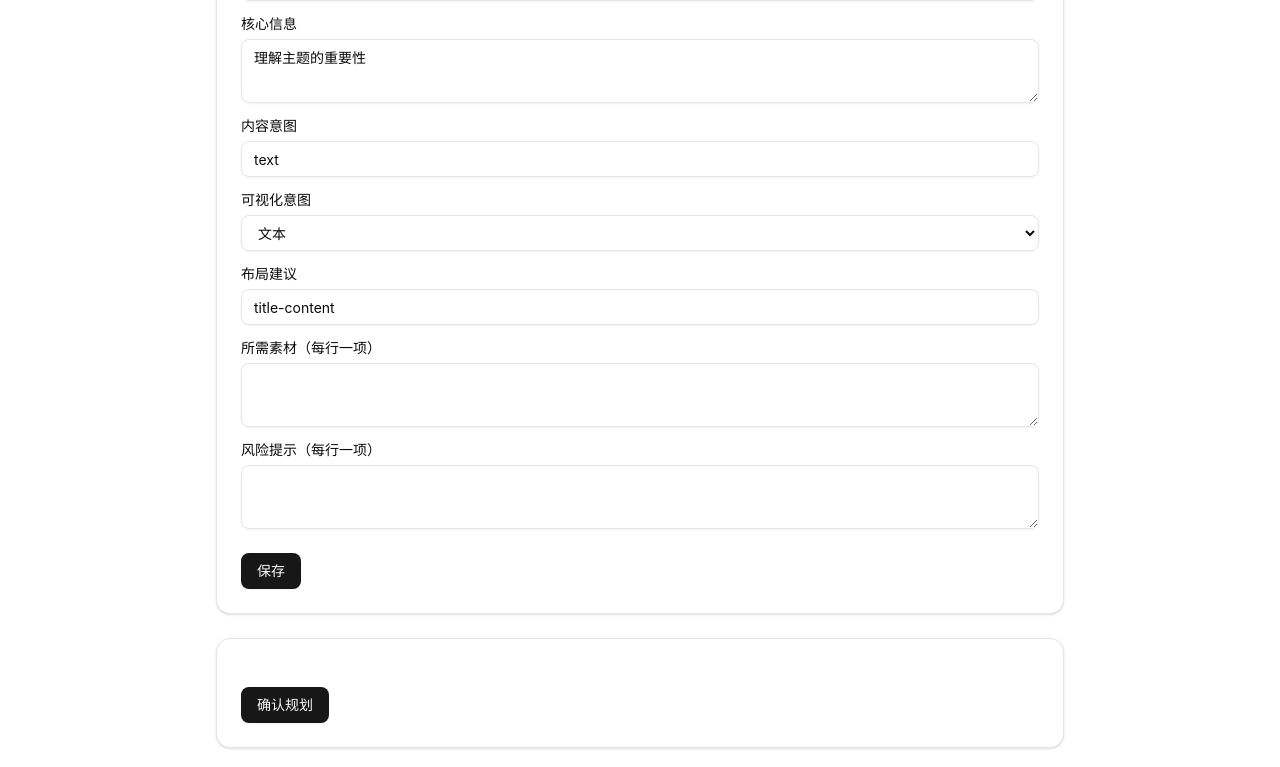
Test: slide-plans page — confirm then materialize › post-confirm edit+save hides the materialize CTA (derived, not one-shot)
The width and height of the screenshot is (1280, 767).
(page scrolled)
Click the button "确认规划" at (285, 705), box [241,687,329,723]
(page scrolled)
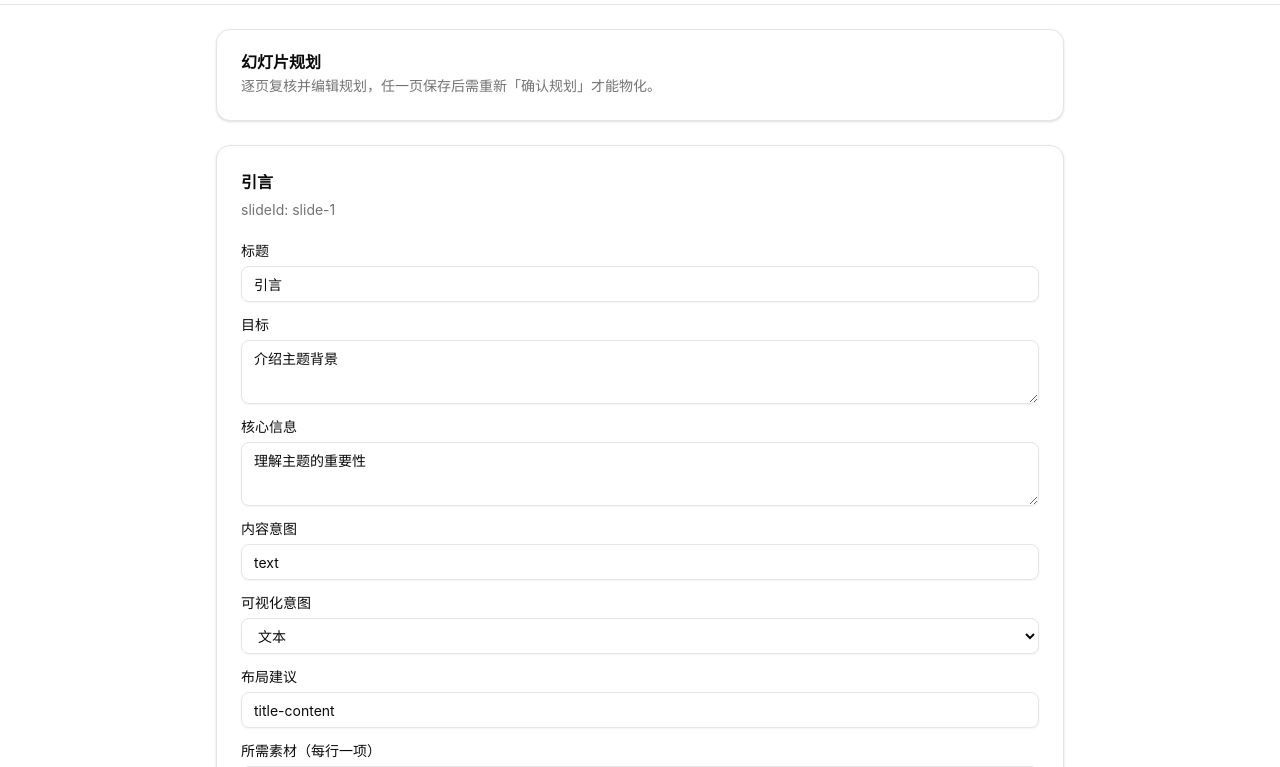
Replace the text in the text box labelled "目标" with "修改后的目标" at (640, 372), box [241,340,1039,404]
(page scrolled)
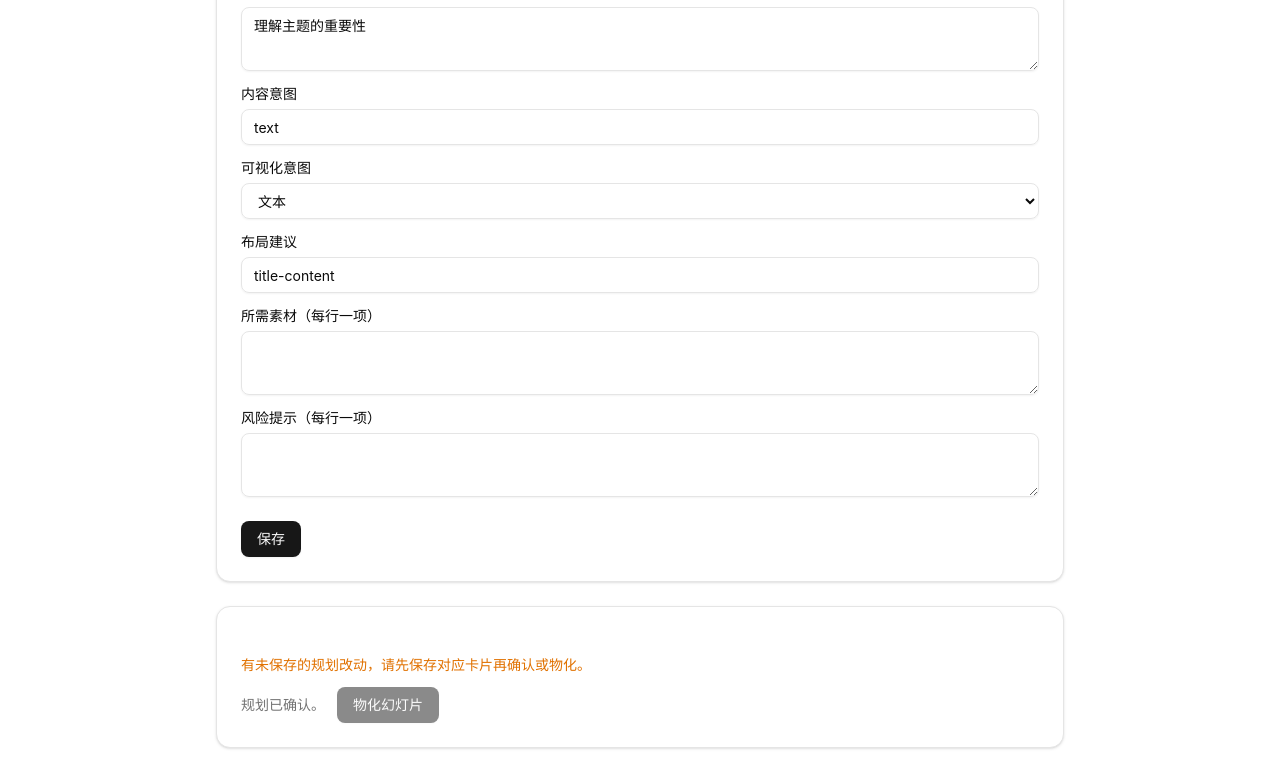
Click the button "保存" at (271, 539), box [241,521,301,557]
(page scrolled)
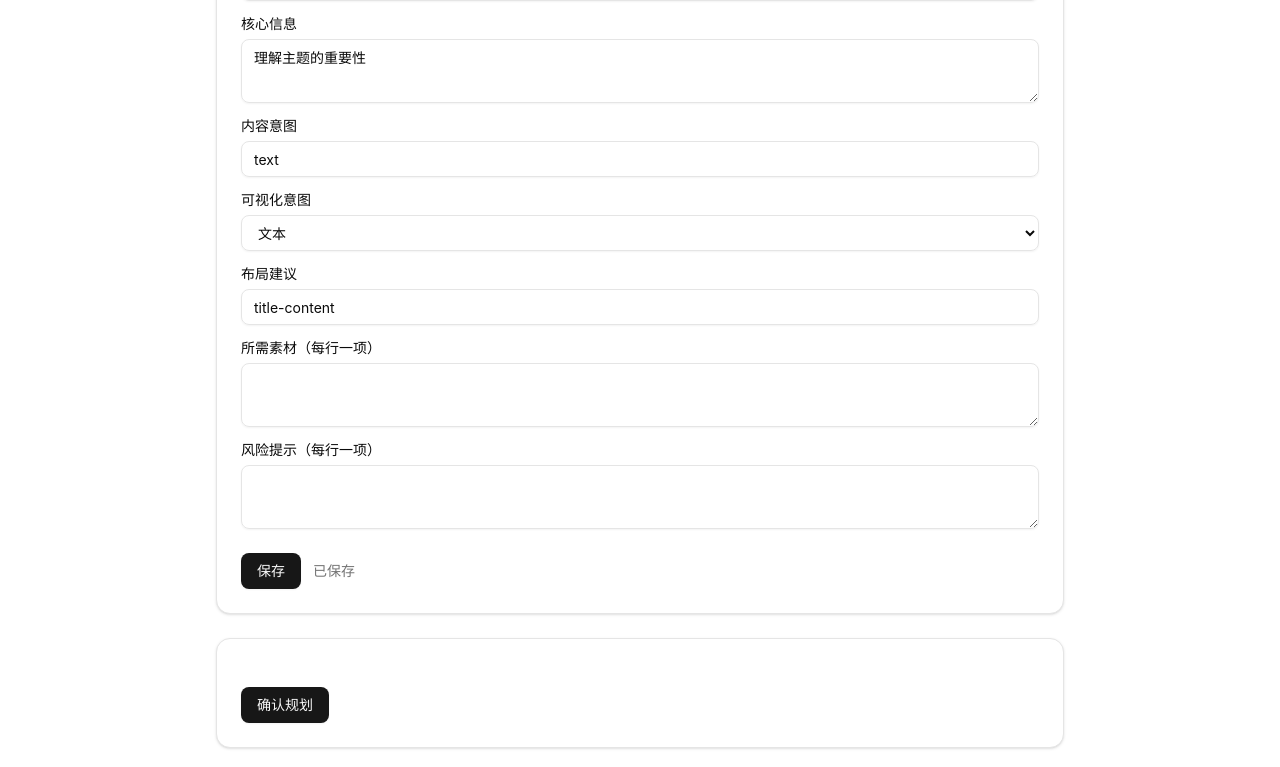
expect the button "物化幻灯片" is gone: met
